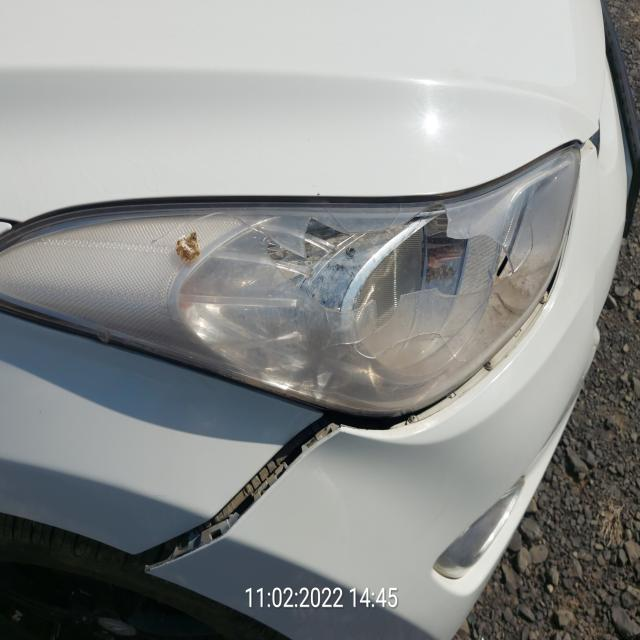damage: (221, 186, 540, 344), (119, 415, 357, 566)
